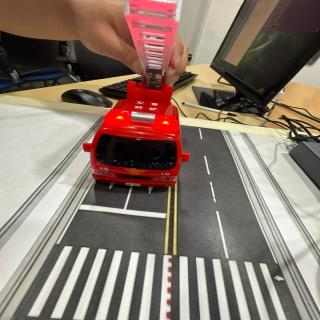Fire_truck: (84, 82, 189, 187)
